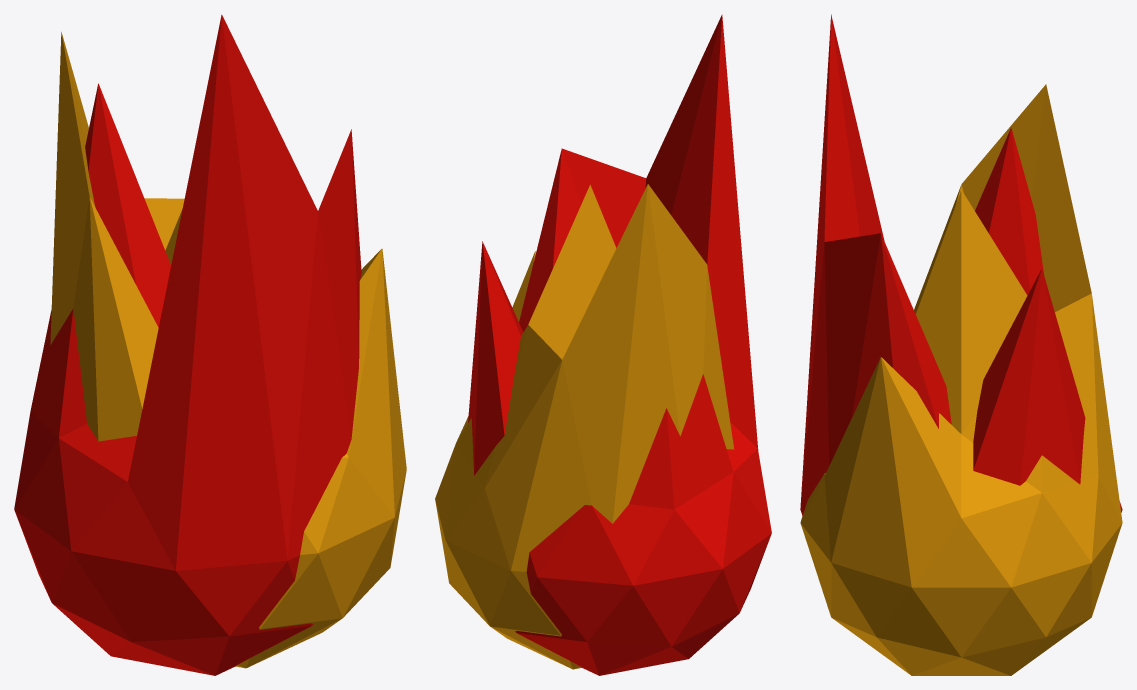
Rendered from fire.glb.
3 renders of one model, left to right at view 1: azimuth 30°, elevation 25°; view 2: azimuth 150°, elevation 25°; view 3: azimuth 270°, elevation 25°, orthographic. The views are drawn at different scales.
Visible parts, largest first — view 1: Icosphere.001, Icosphere; view 2: Icosphere.001, Icosphere; view 3: Icosphere, Icosphere.001.
Boxes of the visible parts, x1=… form: Icosphere.001: x1=14, y1=14, x2=361, y2=675; Icosphere: x1=50, y1=32, x2=406, y2=668; Icosphere.001: x1=468, y1=14, x2=771, y2=675; Icosphere: x1=435, y1=184, x2=734, y2=669; Icosphere: x1=800, y1=84, x2=1122, y2=675; Icosphere.001: x1=800, y1=14, x2=1122, y2=515.
Size of the model in its own units: 0.2094 by 0.4255 by 0.2.
